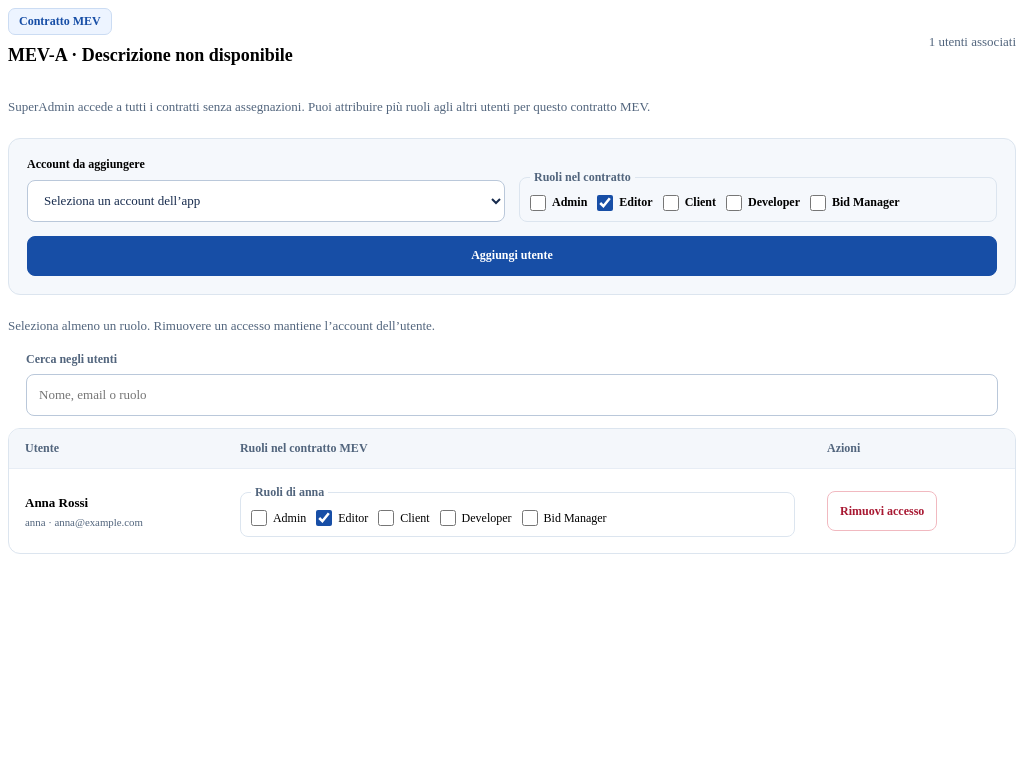
Test: requires explicit role save and preserves a failed change for retry
This screenshot has width=1024, height=768.
Expected: the text "Anna Rossi" is shown, [25,495,88,510]
Click the checkbox labelled "Client" below "Ruoli di anna" at (386, 518), box [378,510,394,526]
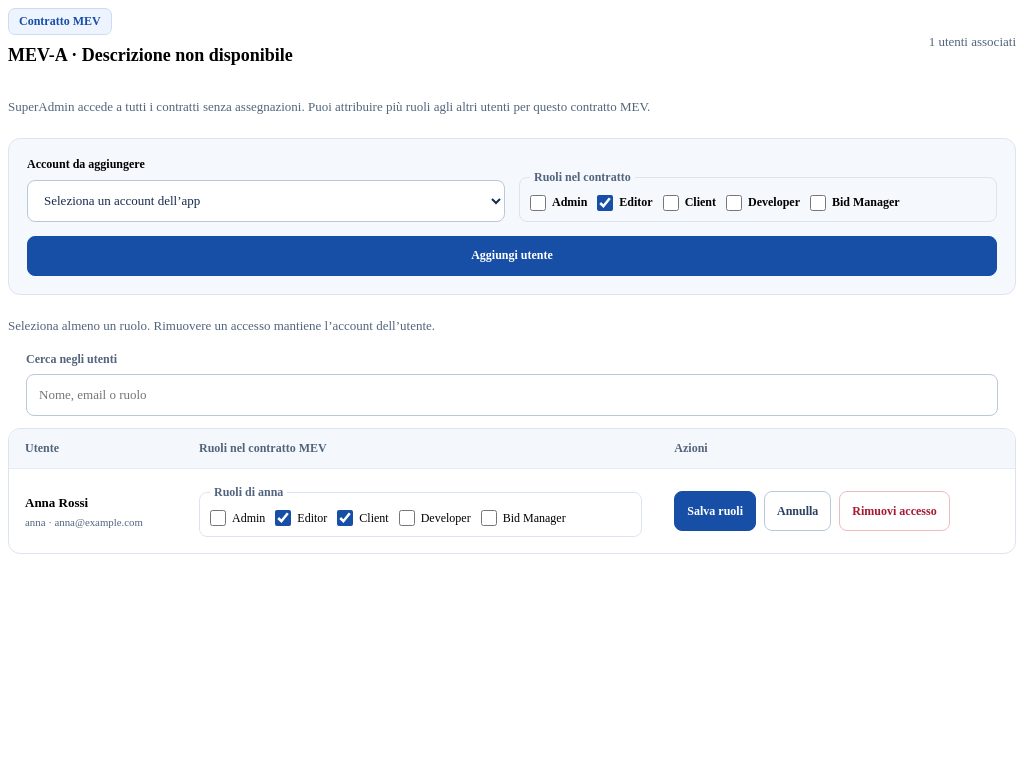
Click the button "Salva ruoli" at (715, 511), box [674,491,756,531]
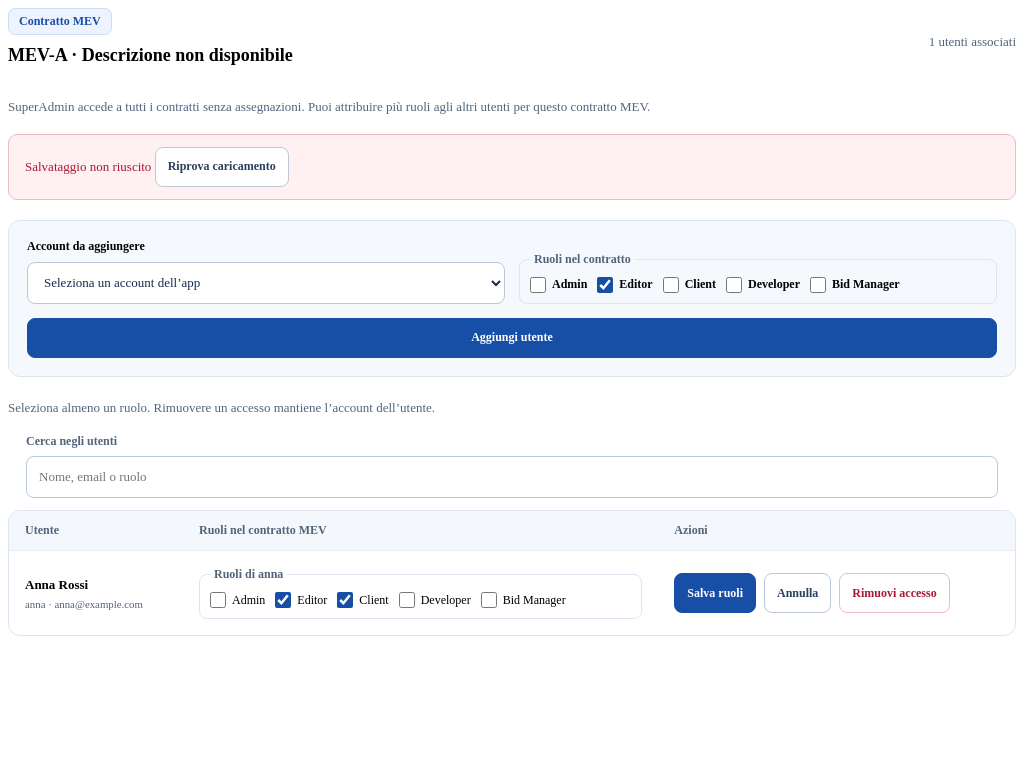
Expected: the checkbox labelled "Editor" below "Ruoli di anna" is checked, [275,592,291,608]
Now the checkbox labelled "Client" below "Ruoli di anna" is checked, box [337,592,353,608]
Now the message shows "Salvataggio non riuscito", box [25,158,151,173]
